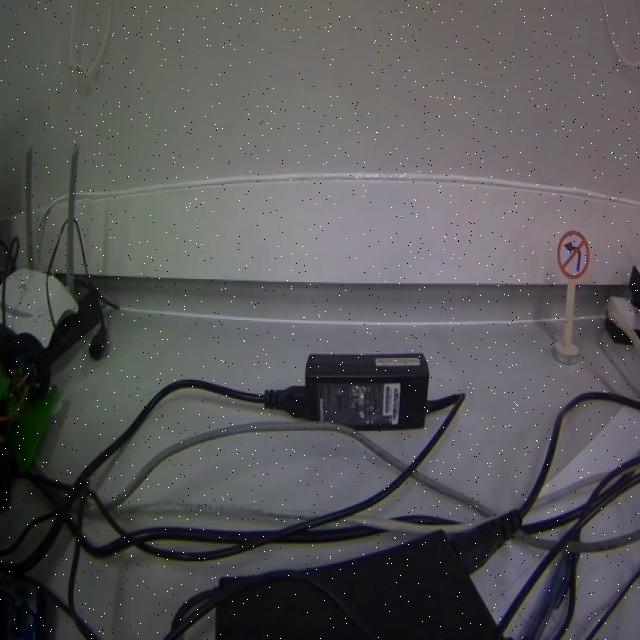Dilarang Belok Kiri: (557, 230, 589, 280)
